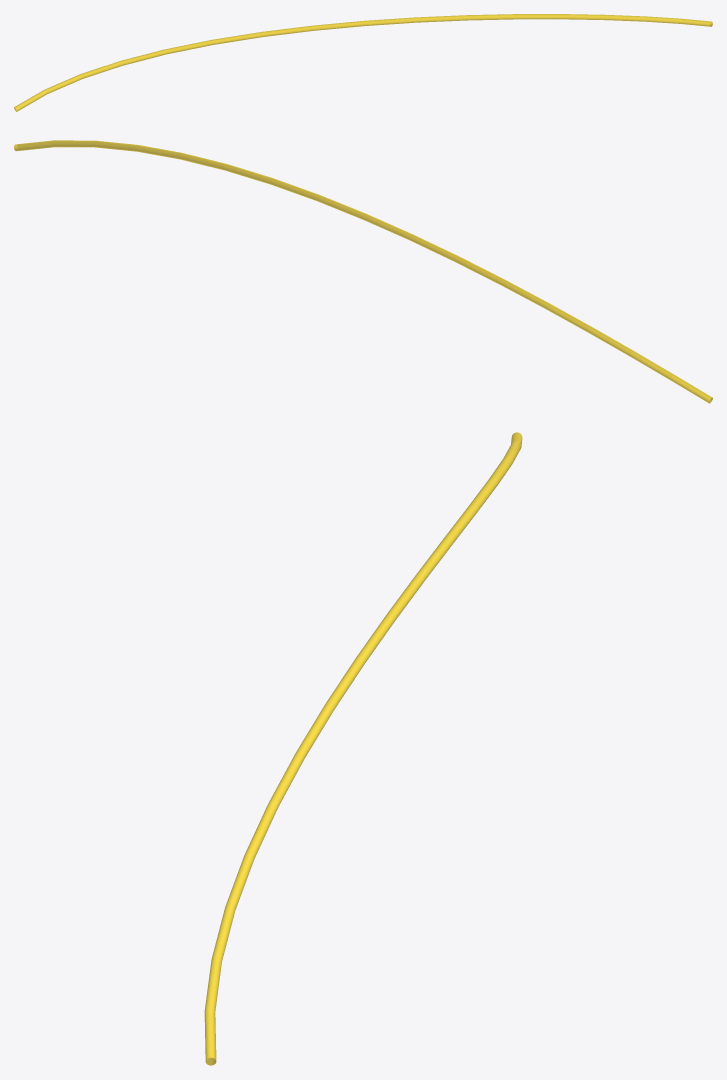
The model's file is Event_100608114_track_113.fbx.
The picture shows the model from 3 angles, top to bottom: view 1: azimuth 30°, elevation 25°; view 2: azimuth 150°, elevation 25°; view 3: azimuth 270°, elevation 25°; orthographic projection. The views are drawn at different scales.
Parts seen in each view (by area): view 1: Model; view 2: Model; view 3: Model.
Part boxes in pixels (x1,y1,x2,y2): Model: (14,14,712,111); Model: (14,140,712,403); Model: (204,432,522,1065).
Bounding box in the file's own units: 5.33 × 0.4431 × 1.18.
